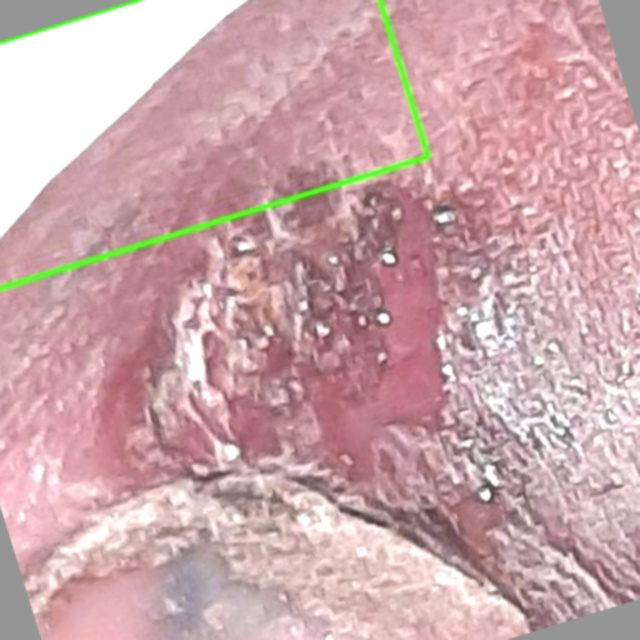Eczema: (0, 0, 428, 288)
